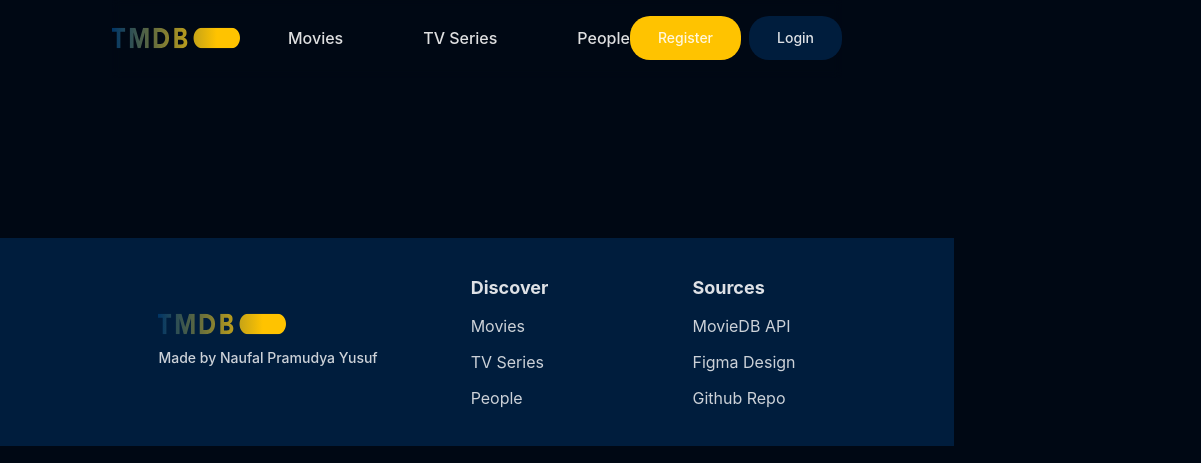
Test: Layout consisting of header and footer › should direct to discover tv series page
Click the link "TV Series" in the row of "Register": coordinates (460, 38) [423,26,497,50]
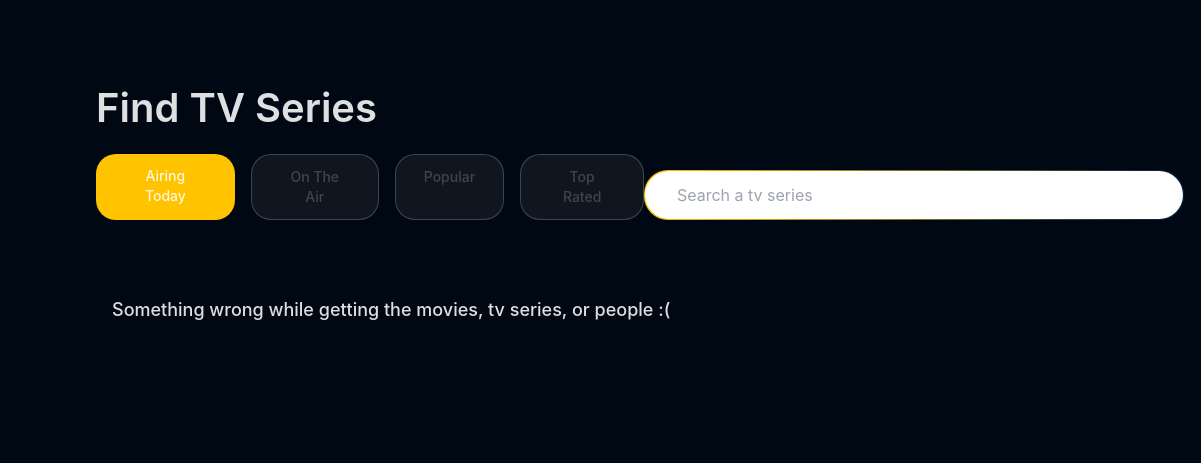
Expected: the heading "Find TV Series" is shown, [96,83,377,132]
